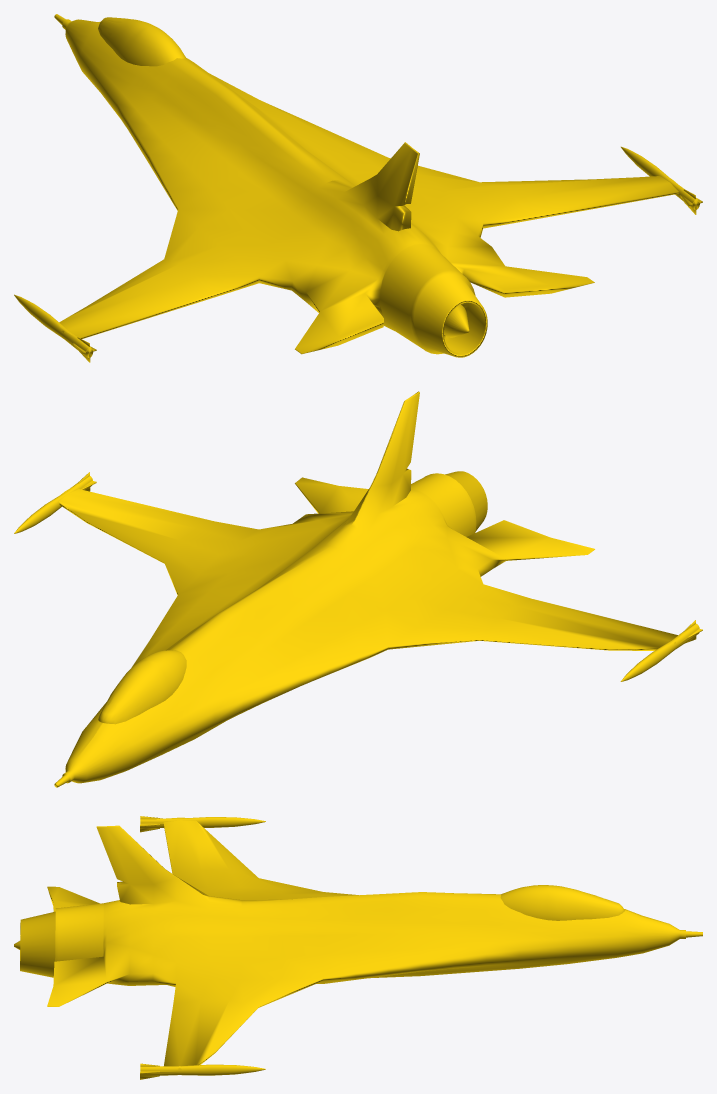
File: player_yellow.obj
The picture shows the model from 3 angles, top to bottom: view 1: azimuth 30°, elevation 25°; view 2: azimuth 150°, elevation 25°; view 3: azimuth 270°, elevation 25°; orthographic projection. The views are drawn at different scales.
Parts seen in each view (by area): view 1: 円柱.001; view 2: 円柱.001; view 3: 円柱.001.
Boxes of the visible parts, x1,y1,x2,y2 form: 円柱.001: (14, 14, 702, 362); 円柱.001: (14, 391, 702, 787); 円柱.001: (14, 816, 702, 1079).
Bounding box in the file's own units: 28.47 × 8.26 × 32.73.
